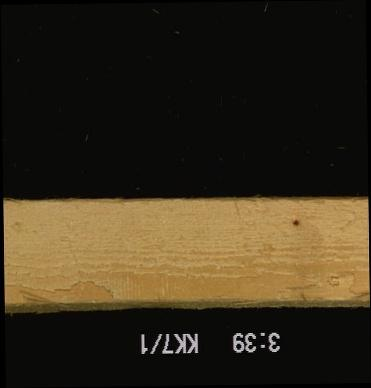small_knot: (290, 216, 303, 229)
